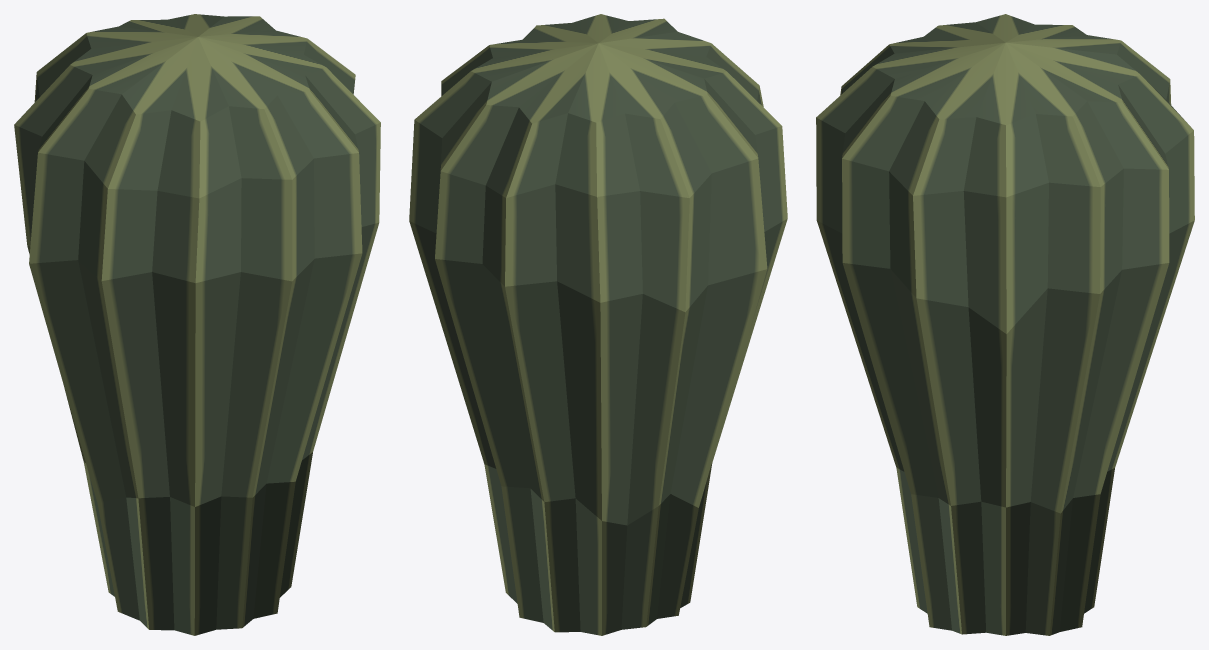
Rendered from SM_Env_Cactus_03.glb.
3 views of the same model, side by side, from view 1: azimuth 30°, elevation 25°; view 2: azimuth 150°, elevation 25°; view 3: azimuth 270°, elevation 25° (orthographic).
Visible parts, largest first — view 1: SM_Env_Cactus_03; view 2: SM_Env_Cactus_03; view 3: SM_Env_Cactus_03.
Part boxes in pixels (x1,y1,x2,y2): SM_Env_Cactus_03: (14,14,380,635); SM_Env_Cactus_03: (409,14,787,635); SM_Env_Cactus_03: (816,14,1194,635).
Bounding box in the file's own units: 0.4025 × 0.6604 × 0.4001.
1 material, 1 textured.
